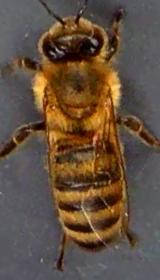varroa_mite: (90, 124, 108, 156)
